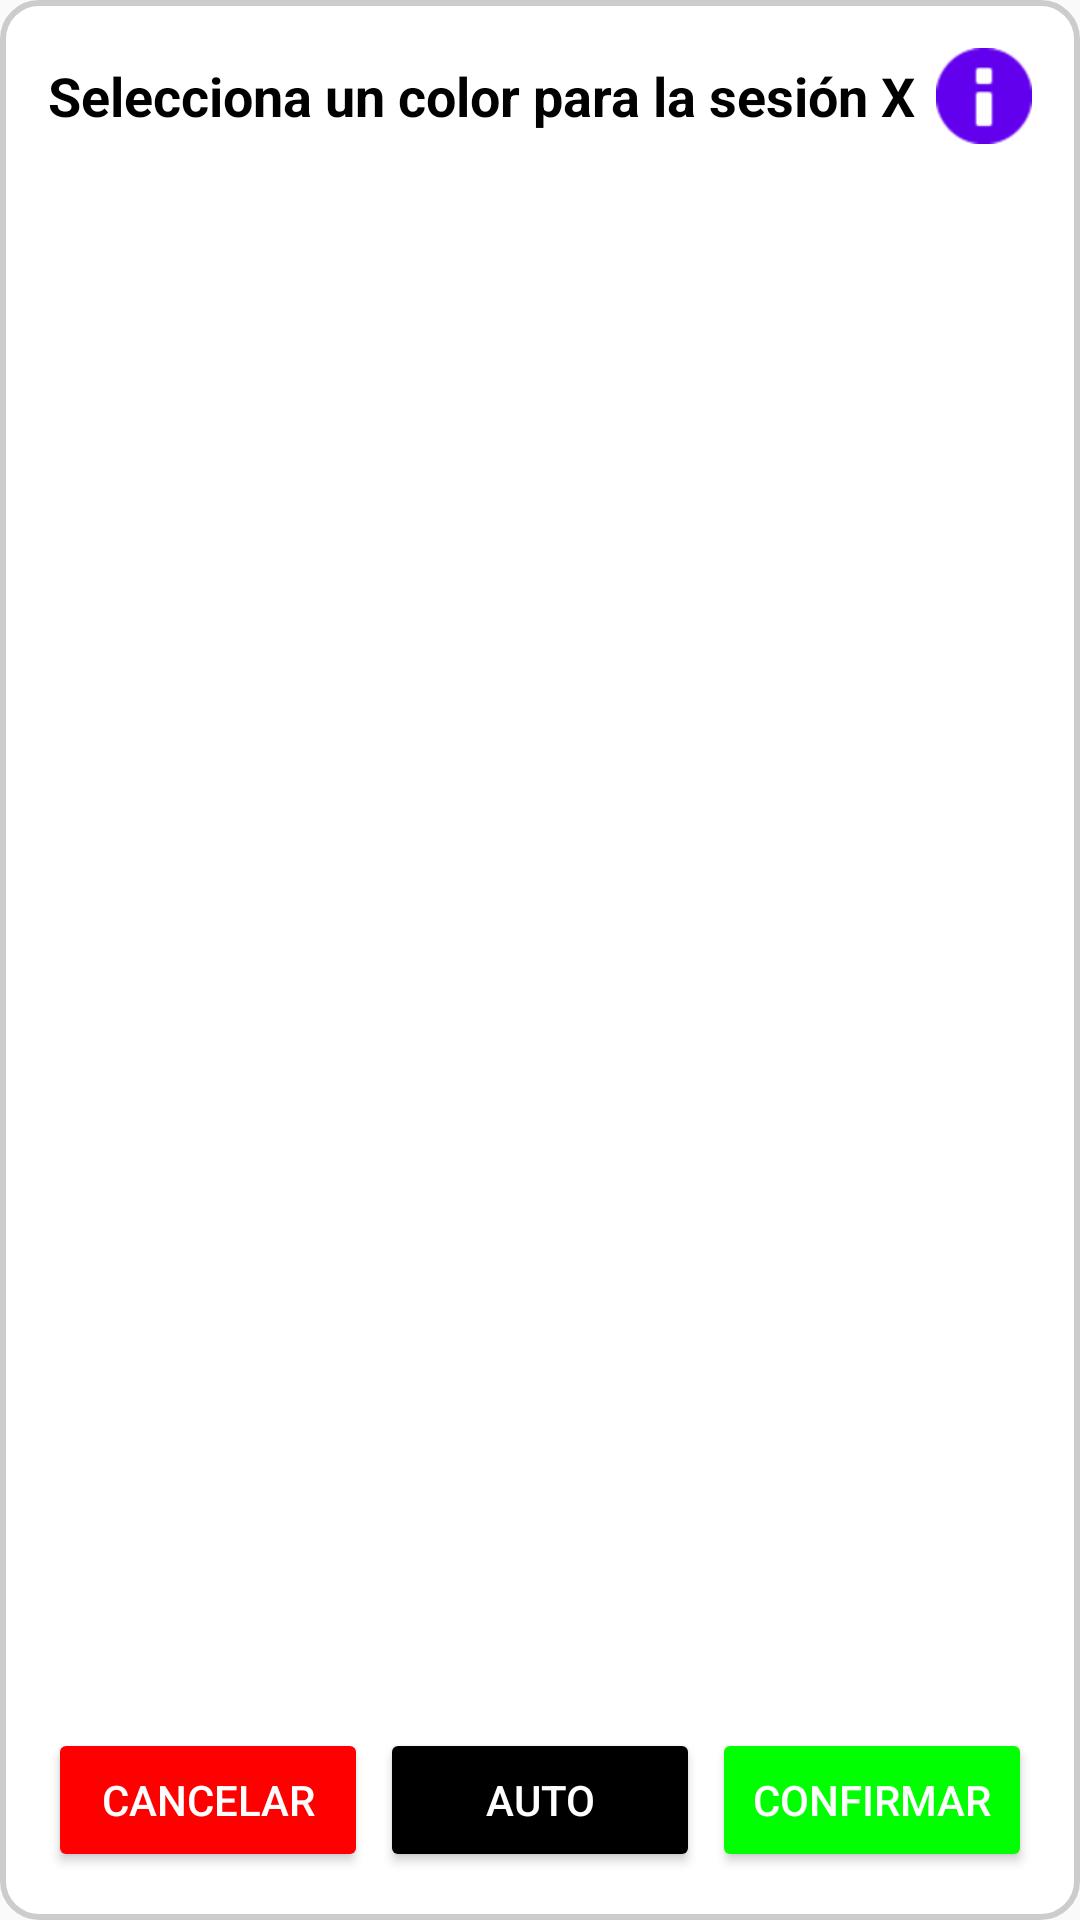

Screen size 1080*1920. Icon name, then its center in pixels as point (x, y):
Ver leyenda de colores: point (984, 96)
